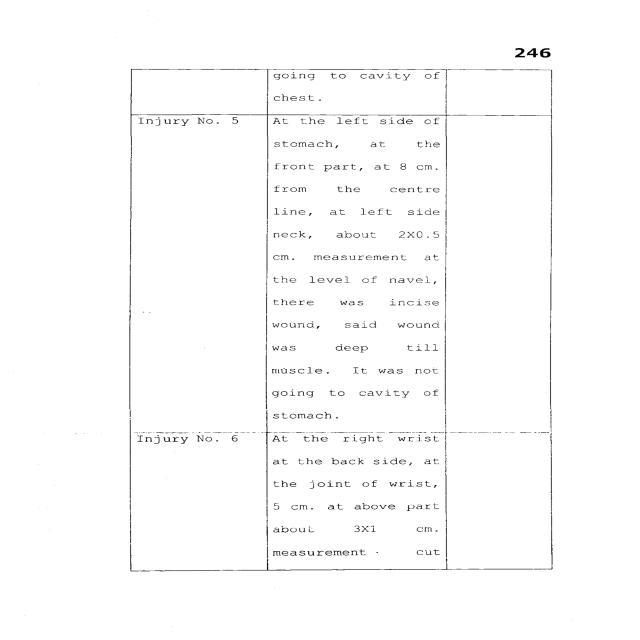page-number: (433, 1, 638, 64)
